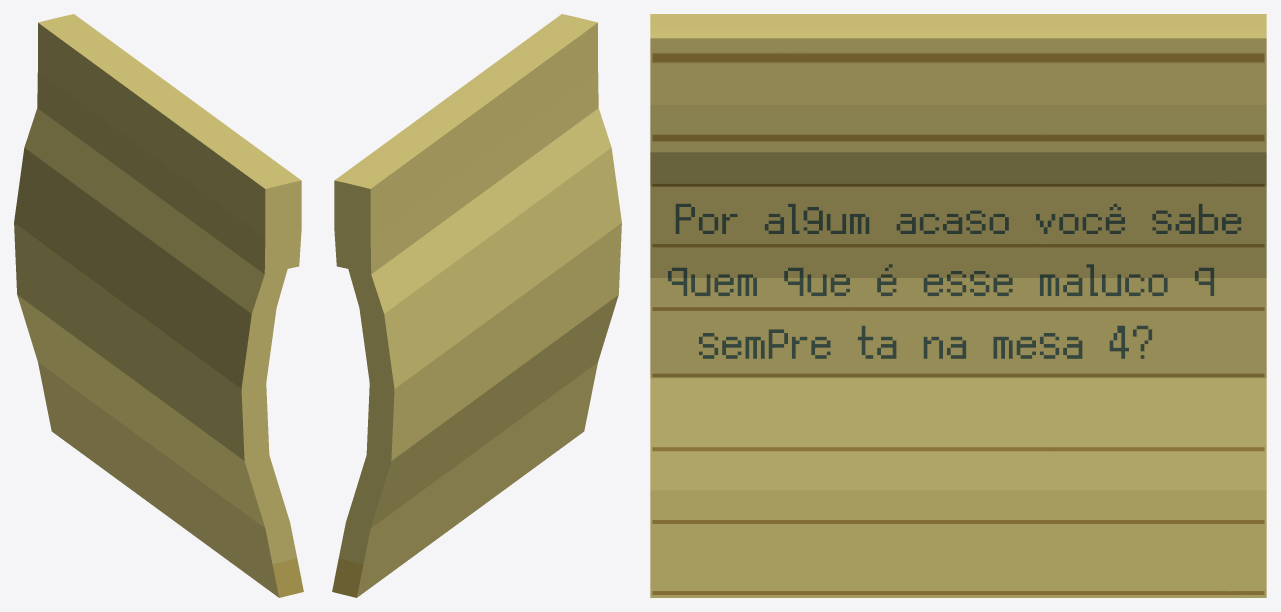
File: pouistiiti4.fbx
3 views of the same model, side by side, from view 1: azimuth 30°, elevation 25°; view 2: azimuth 150°, elevation 25°; view 3: azimuth 270°, elevation 25° (orthographic). The views are drawn at different scales.
Visible parts, largest first — view 1: Cube; view 2: Cube; view 3: Cube.
Boxes of the visible parts, bbox=[...] form: Cube: bbox=[14, 14, 303, 597]; Cube: bbox=[332, 14, 621, 597]; Cube: bbox=[650, 14, 1266, 597].
Bounding box in the file's own units: 31.71 × 200 × 200.
Materials: 1 (1 with a texture image).
